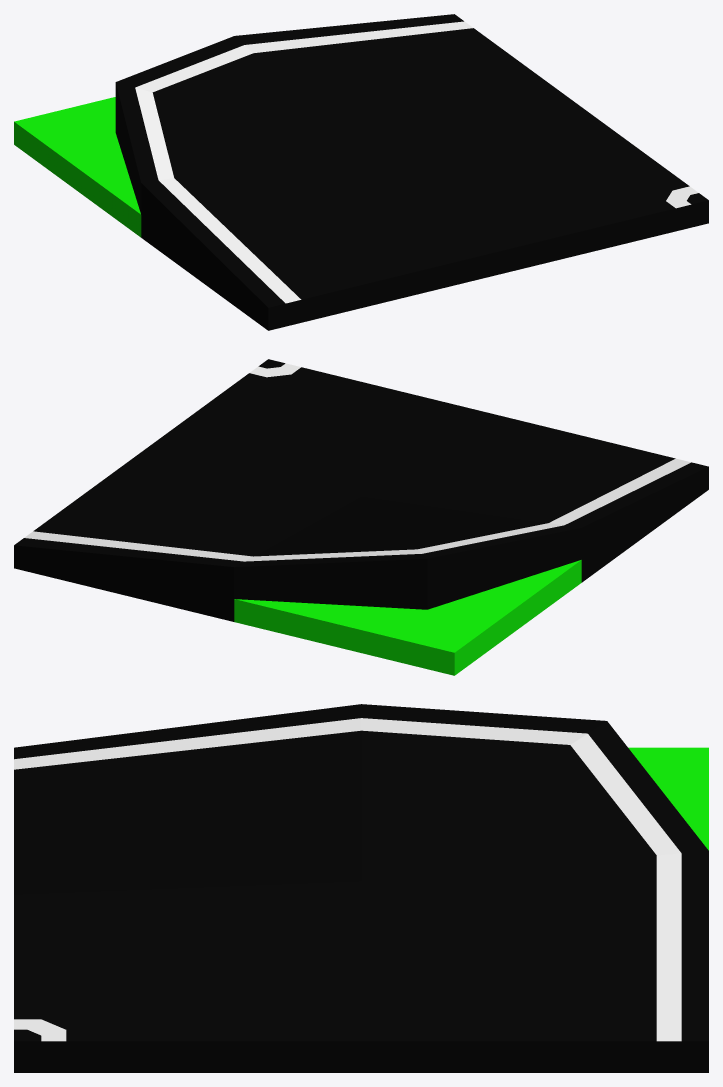
Rendered from highroad_turn_r_export.fbx.
3 renders of one model, top to bottom at view 1: azimuth 30°, elevation 25°; view 2: azimuth 150°, elevation 25°; view 3: azimuth 270°, elevation 25°, orthographic. The views are drawn at different scales.
Parts seen in each view (by area): view 1: Road, Grass; view 2: Road, Grass; view 3: Road, Grass.
Boxes of the visible parts, bbox=[...] form: Road: bbox=[115, 14, 708, 330]; Grass: bbox=[14, 97, 141, 237]; Road: bbox=[14, 359, 708, 621]; Grass: bbox=[234, 560, 581, 675]; Road: bbox=[14, 704, 708, 1072]; Grass: bbox=[628, 747, 708, 850].
Size of what is drawn, in the model's own units: 20 by 3.21 by 20.
